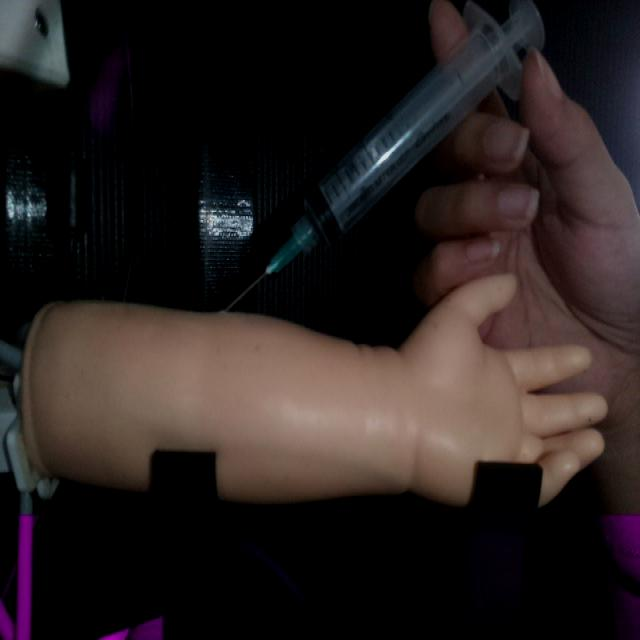Above 30 degrees: (220, 0, 548, 320)
